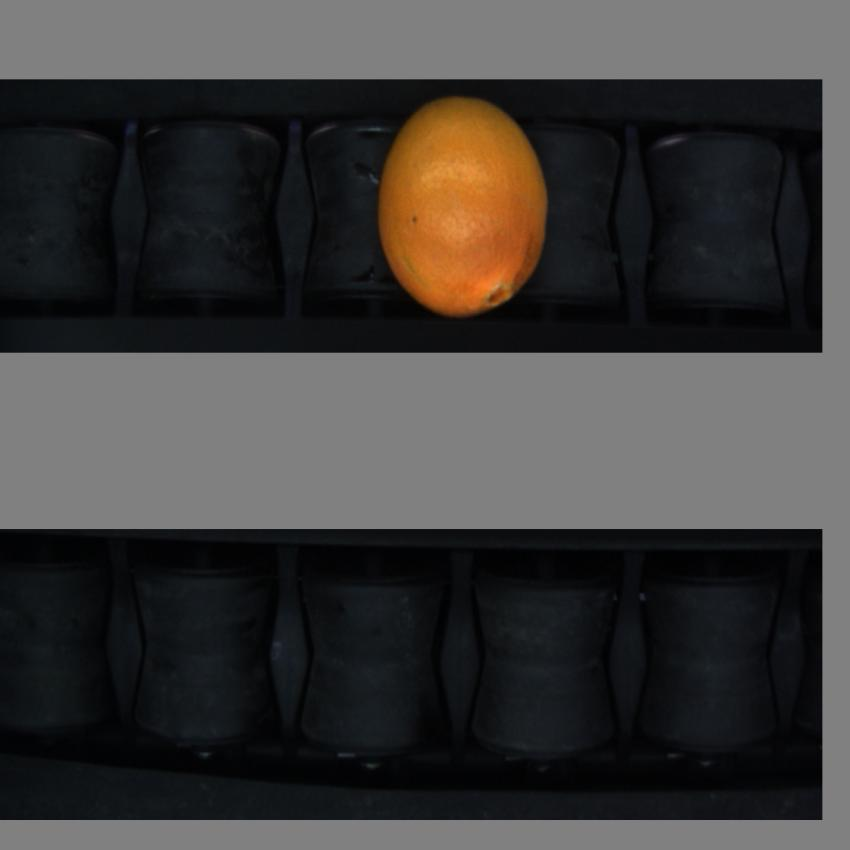Mal estado: (369, 90, 560, 322)
